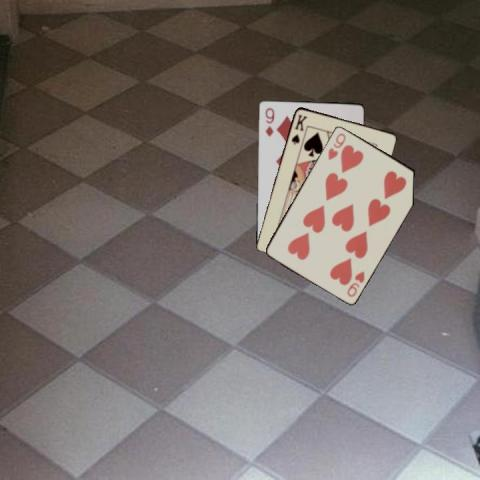9d: (262, 105, 275, 138)
9h: (325, 130, 347, 161), (344, 268, 366, 298)
Ks: (288, 112, 309, 146)
